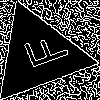F: (14, 29, 71, 74)
